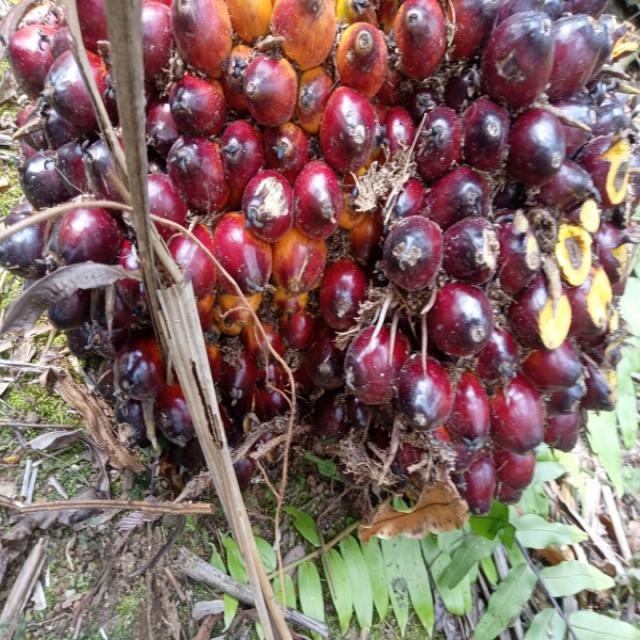fraksi 1: (19, 0, 635, 510)
